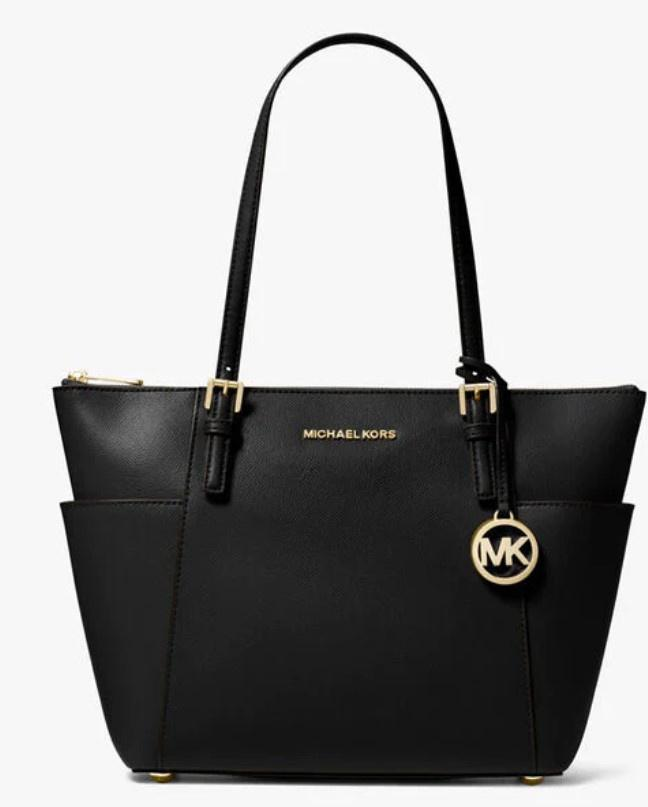MICHAEL-KORS: (304, 429, 396, 439)
